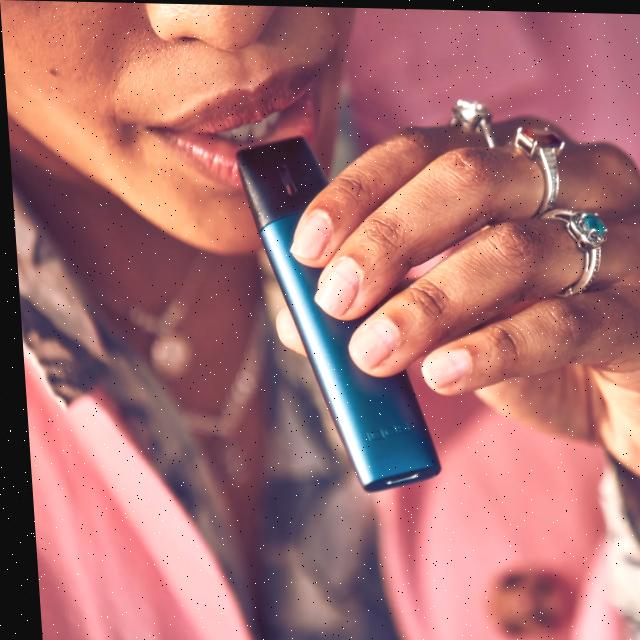vape: (231, 133, 435, 492)
